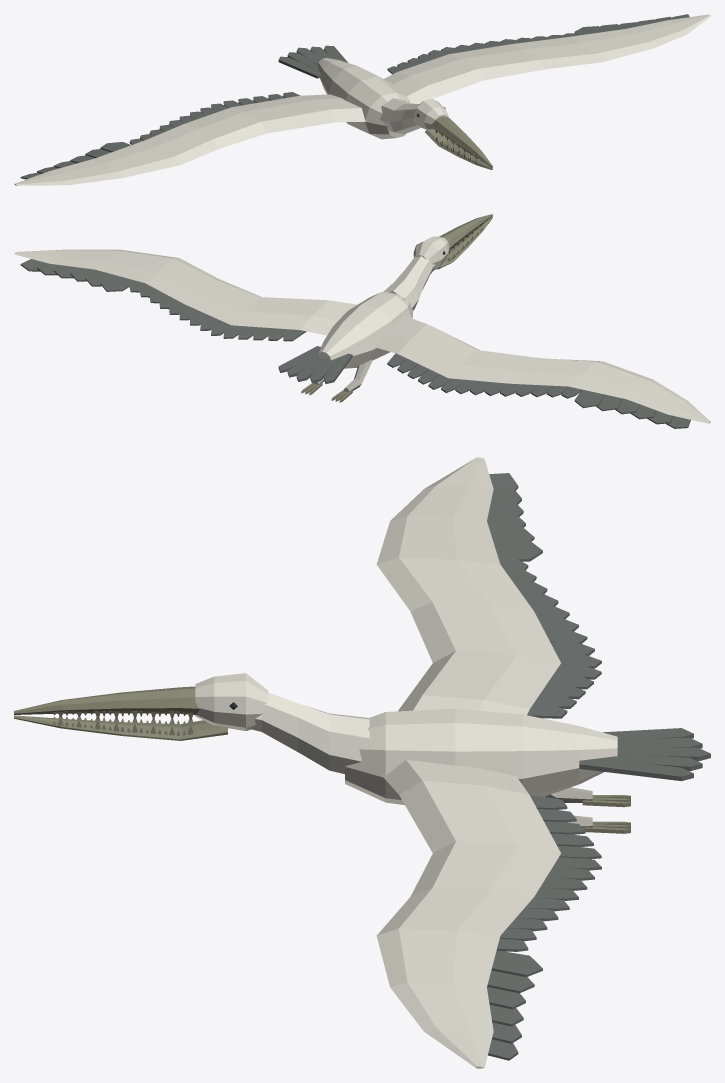
3 renders of one model, top to bottom at view 1: azimuth 30°, elevation 25°; view 2: azimuth 150°, elevation 25°; view 3: azimuth 270°, elevation 25°, orthographic. The views are drawn at different scales.
Visible parts, largest first — view 1: left-wing, right-wing, torso, left-flight-feathers, right-flight-feathers, tail-feathers, neck, upper-bill, head, lower-mandible; view 2: left-wing, right-wing, left-flight-feathers, right-flight-feathers, torso, tail-feathers, neck, head, upper-bill, lower-mandible, left-folded-leg; view 3: right-wing, left-wing, torso, right-flight-feathers, left-flight-feathers, neck, tail-feathers, head, upper-bill, lower-mandible, folded-feet-artistic-digits.
Part boxes in pixels (x1,y1,x2,y2): left-wing: [14, 94, 365, 185]; right-wing: [384, 14, 710, 103]; torso: [317, 58, 409, 139]; left-flight-feathers: [20, 92, 300, 179]; right-flight-feathers: [387, 14, 689, 74]; tail-feathers: [278, 45, 347, 78]; neck: [380, 98, 420, 134]; upper-bill: [431, 116, 492, 167]; head: [413, 98, 448, 132]; lower-mandible: [425, 130, 492, 169]; left-wing: [375, 316, 710, 423]; right-wing: [14, 249, 357, 335]; left-flight-feathers: [387, 353, 690, 428]; right-flight-feathers: [20, 259, 306, 341]; torso: [317, 291, 412, 368]; tail-feathers: [278, 346, 352, 383]; neck: [383, 256, 435, 310]; head: [413, 236, 449, 269]; upper-bill: [439, 214, 492, 249]; lower-mandible: [437, 216, 492, 269]; left-folded-leg: [343, 359, 372, 392]; right-wing: [376, 760, 560, 1068]; left-wing: [376, 457, 560, 715]; torso: [345, 708, 617, 805]; right-flight-feathers: [487, 795, 601, 1060]; left-flight-feathers: [487, 473, 601, 718]; neck: [248, 693, 369, 773]; tail-feathers: [579, 728, 710, 781]; head: [195, 673, 268, 730]; upper-bill: [14, 686, 199, 715]; lower-mandible: [14, 715, 227, 740]; folded-feet-artistic-digits: [582, 795, 630, 833].
Bounding box in the file's own units: 6.4 × 0.6826 × 3.1.
